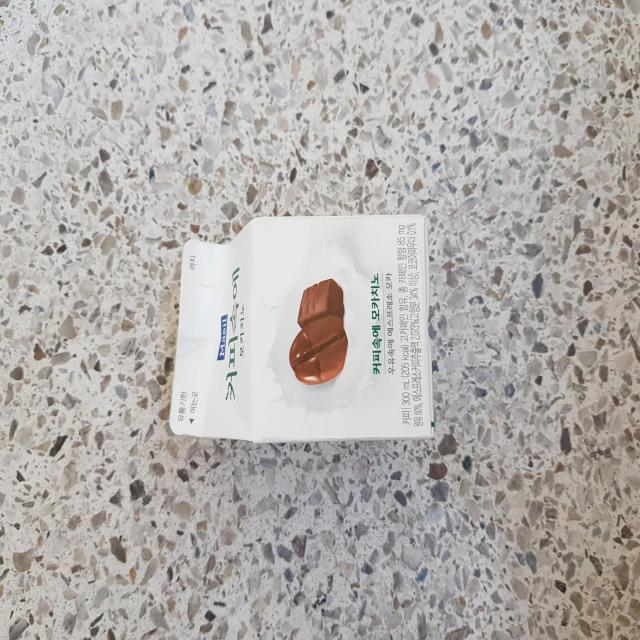paperpack: (169, 215, 434, 442)
